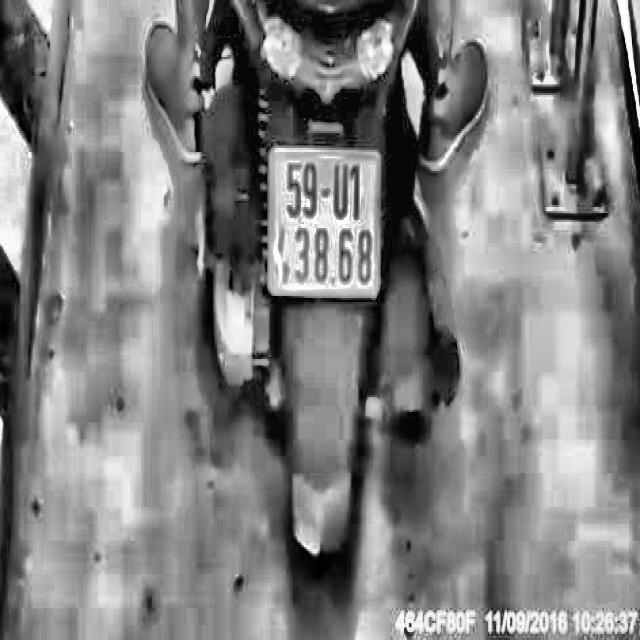plate: (264, 132, 385, 312)
